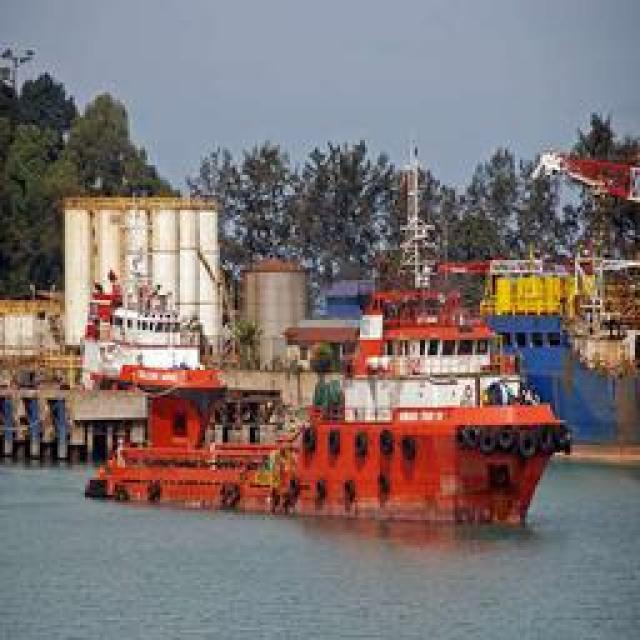CIV_Ship: (91, 280, 564, 525)
